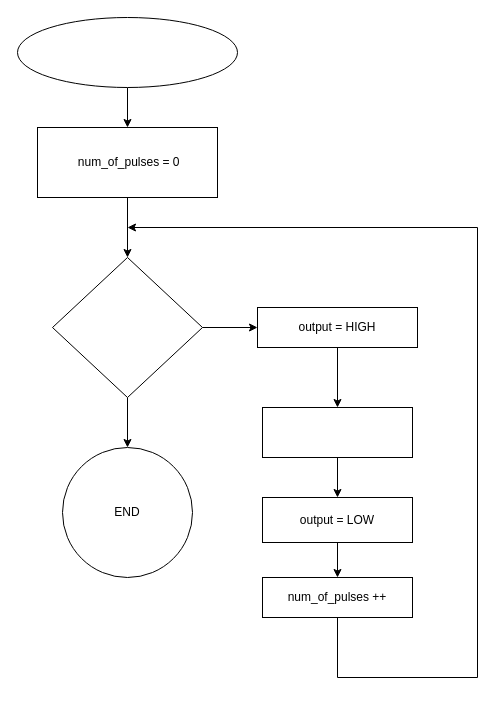
Image size: 503x703. Some labels were removed from this diagram. Here are the shapes that lost their labels. From the top down, the box of each, then its label:
(16, 16, 238, 88): void burst_c(uint8_t number)
(52, 256, 202, 398): num_of_pulses < num
(262, 406, 412, 458): delay
